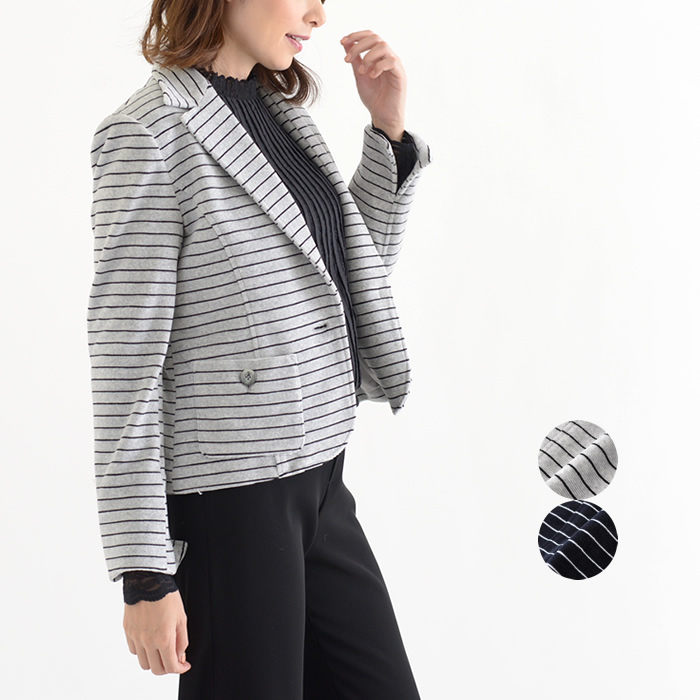F_W_suit jacket: (80, 53, 465, 578)
